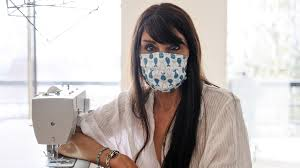cloth_mask: (139, 51, 190, 94)
